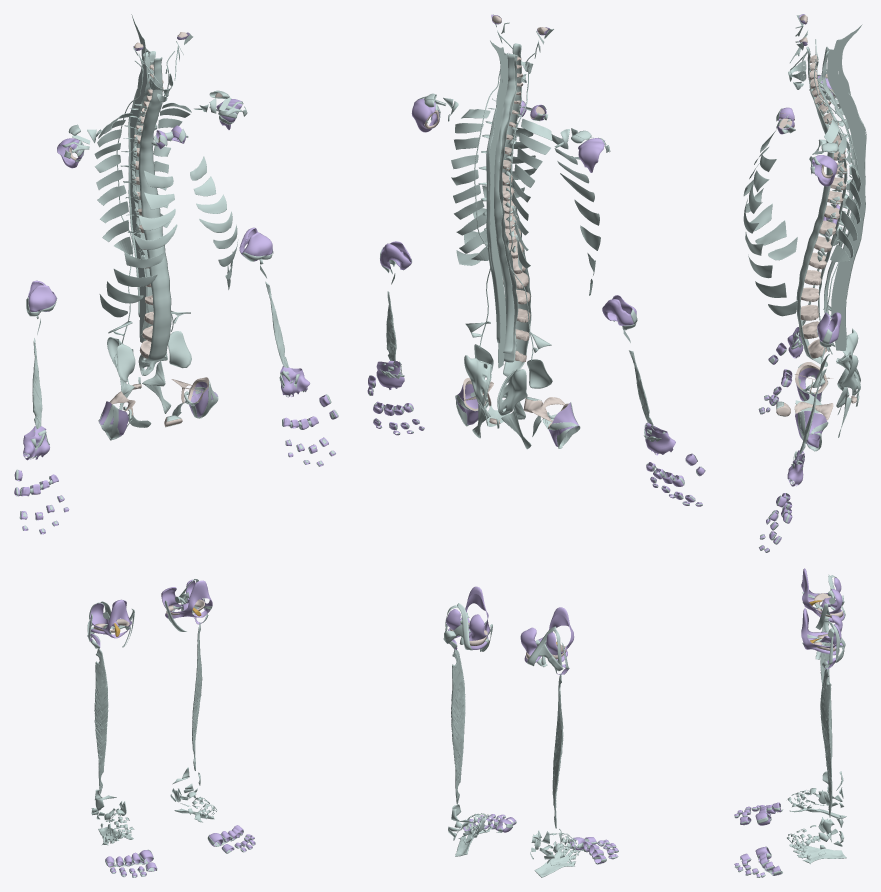
Rendered from joints.glb.
The picture shows the model from 3 angles, left to right: view 1: azimuth 30°, elevation 25°; view 2: azimuth 150°, elevation 25°; view 3: azimuth 270°, elevation 25°; orthographic projection. The views are drawn at different scales.
Parts seen in each view (by area): view 1: Anterior longitudinal ligament, External intercostal membrane.r, Internal intercostal membrane.r, External intercostal membrane.l, Interosseous membrane of leg.r, Interspinous ligaments, Articular capsule of knee joint.l, Internal intercostal membrane.l, Articular capsule of knee joint.r, Articular capsule of elbow joint.l, Interosseous membrane of leg.l, Articular capsule of elbow joint.r (+2 smaller); view 2: Internal intercostal membrane.l, Ligamenta flava, Interspinous ligaments, Internal intercostal membrane.r, Interosseous membrane of leg.l, Anterior longitudinal ligament, External intercostal membrane.r, Posterior longitudinal ligament, Articular capsule of knee joint.l, Supraspinous ligament, Articular capsule of knee joint.r, Posterior sacro-iliac ligament.r (+4 smaller); view 3: Interspinous ligaments, External intercostal membrane.l, Internal intercostal membrane.l, Anterior longitudinal ligament, External intercostal membrane.r, Interosseous membrane of leg.l, Articular capsule of knee joint.l, Articular capsule of knee joint.r, Ligamenta flava, Posterior longitudinal ligament, Long plantar ligament.l, Articular capsule of elbow joint.l (+14 smaller).
Part boxes in pixels (<box>): Anterior longitudinal ligament: <box>138,57,171,363</box>; External intercostal membrane.r: <box>99,170,177,317</box>; Internal intercostal membrane.r: <box>94,113,132,254</box>; External intercostal membrane.l: <box>190,156,238,289</box>; Interosseous membrane of leg.r: <box>94,648,108,794</box>; Interspinous ligaments: <box>130,50,149,342</box>; Articular capsule of knee joint.l: <box>161,579,212,618</box>; Internal intercostal membrane.l: <box>153,102,191,235</box>; Articular capsule of knee joint.r: <box>90,599,131,638</box>; Articular capsule of elbow joint.l: <box>239,227,272,261</box>; Interosseous membrane of leg.l: <box>192,622,202,770</box>; Articular capsule of elbow joint.r: <box>27,280,56,311</box>; Internal intercostal membrane.l: <box>451,109,490,260</box>; Ligamenta flava: <box>494,53,515,353</box>; Interspinous ligaments: <box>488,53,508,368</box>; Internal intercostal membrane.r: <box>512,119,552,271</box>; Interosseous membrane of leg.l: <box>451,649,465,804</box>; Anterior longitudinal ligament: <box>502,43,531,376</box>; External intercostal membrane.r: <box>551,134,600,295</box>; Posterior longitudinal ligament: <box>499,53,518,362</box>; Articular capsule of knee joint.l: <box>446,586,490,649</box>; Supraspinous ligament: <box>486,108,500,343</box>; Articular capsule of knee joint.r: <box>520,607,574,662</box>; Posterior sacro-iliac ligament.r: <box>497,368,527,415</box>; Interspinous ligaments: <box>826,49,865,350</box>; External intercostal membrane.l: <box>743,154,797,316</box>; Internal intercostal membrane.l: <box>824,116,861,262</box>; Anterior longitudinal ligament: <box>796,46,833,366</box>; External intercostal membrane.r: <box>743,129,797,260</box>; Interosseous membrane of leg.l: <box>820,667,832,817</box>; Articular capsule of knee joint.l: <box>801,608,842,655</box>; Articular capsule of knee joint.r: <box>801,568,844,622</box>; Ligamenta flava: <box>822,47,854,320</box>; Posterior longitudinal ligament: <box>816,53,847,351</box>; Long plantar ligament.l: <box>789,843,846,864</box>; Articular capsule of elbow joint.l: <box>817,312,841,343</box>.
Size of the model in its own units: 0.6615 by 1.58 by 0.2308.
